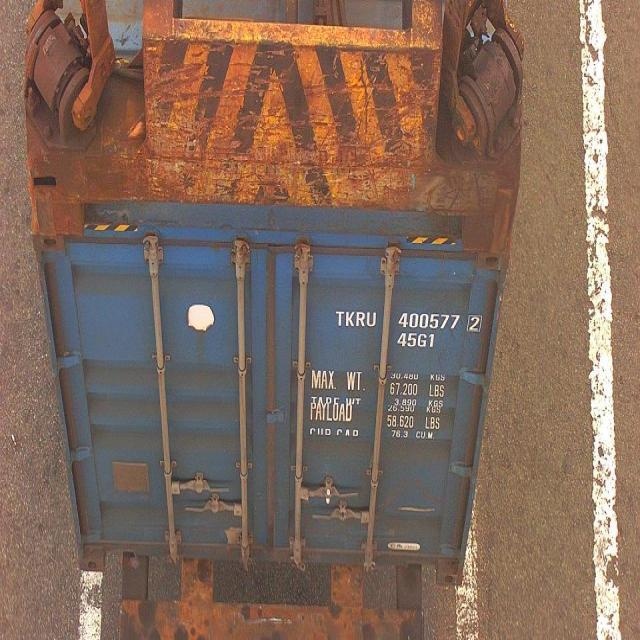ISO: (396, 330, 438, 352)
container_number: (334, 303, 482, 335)
